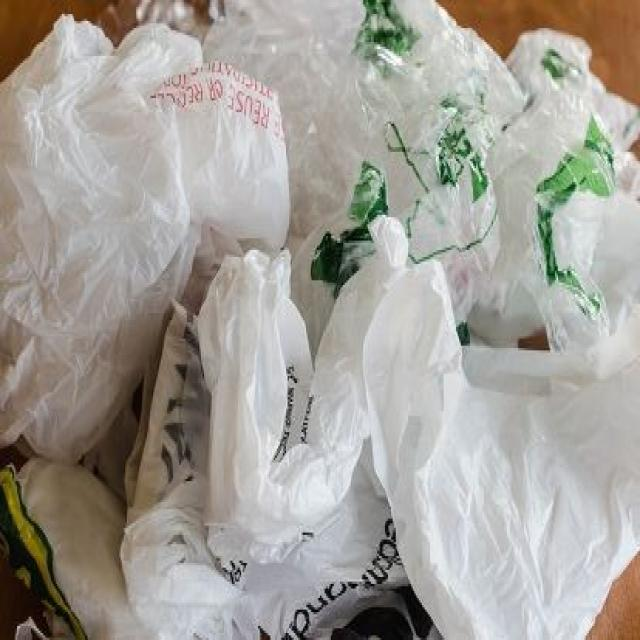plastic_bag: (0, 10, 312, 471), (356, 248, 638, 638), (192, 202, 420, 567), (404, 20, 638, 333), (110, 273, 264, 638)
